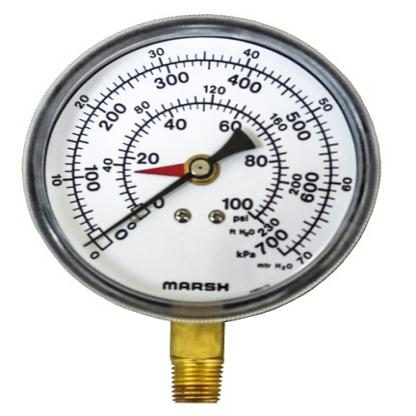needle: (83, 172, 193, 248)
